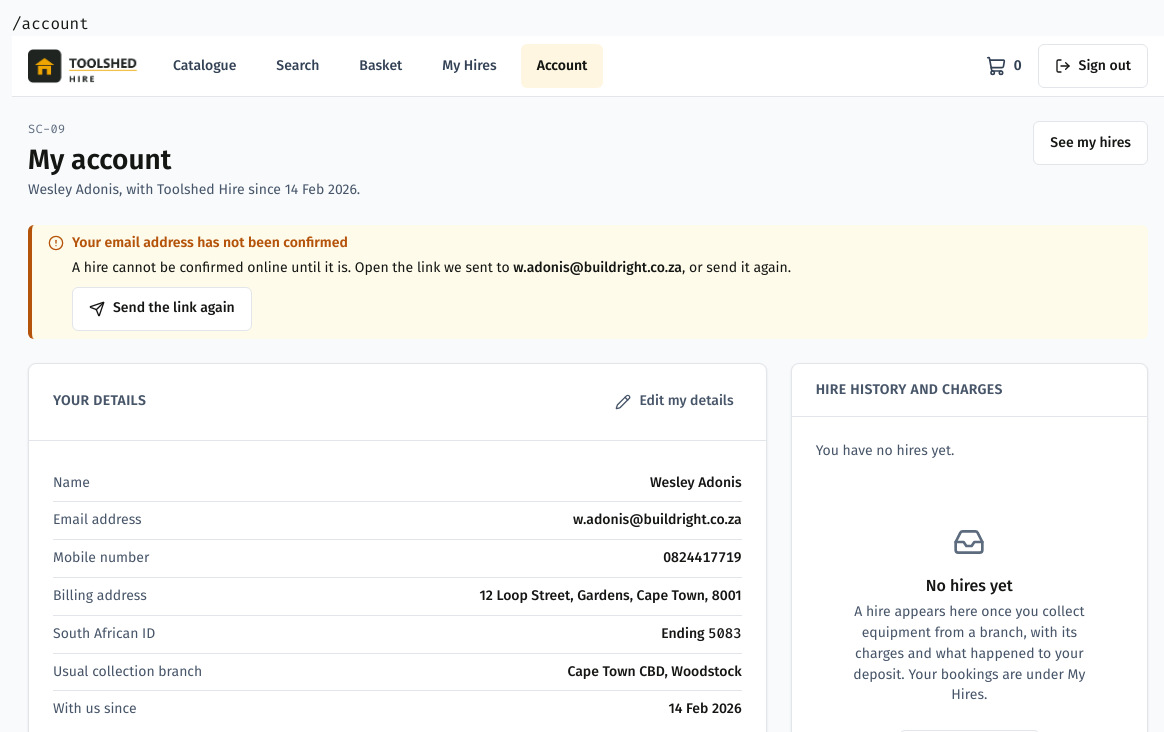
an email address that is not confirmed › says how long to wait when the link has been asked for too often
Click the button "Send the link again" at (162, 309), box x1=72 y1=287 x2=252 y2=331
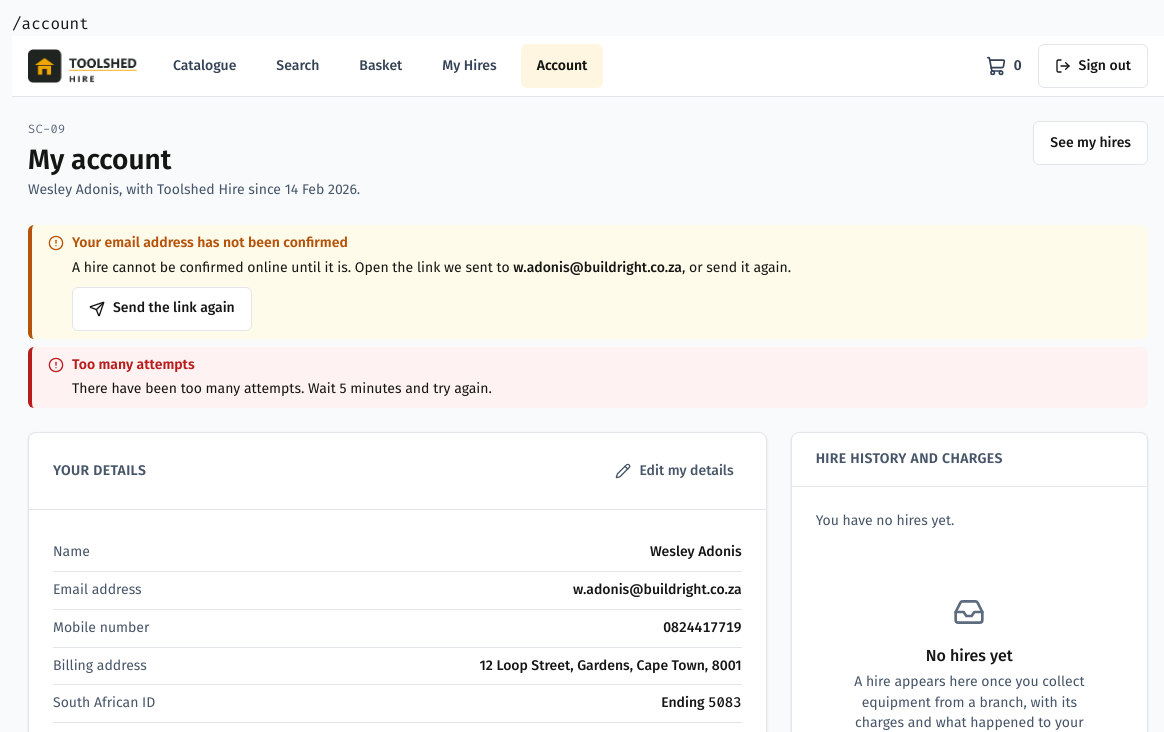
Check: the message that starts with "Too many attempts" is shown, box x1=72 y1=356 x2=195 y2=373
Check: the message that starts with "Too many attempts" shows "Wait 5 minutes and try again.", box x1=72 y1=380 x2=492 y2=397
